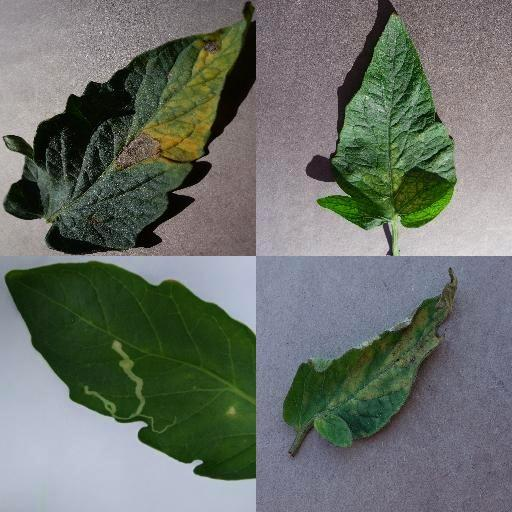Early Blight: (1, 5, 256, 249)
Leaf Miner: (5, 258, 256, 480)
Leaf Mold: (284, 267, 456, 449)
Spider Mites: (316, 9, 458, 229)
